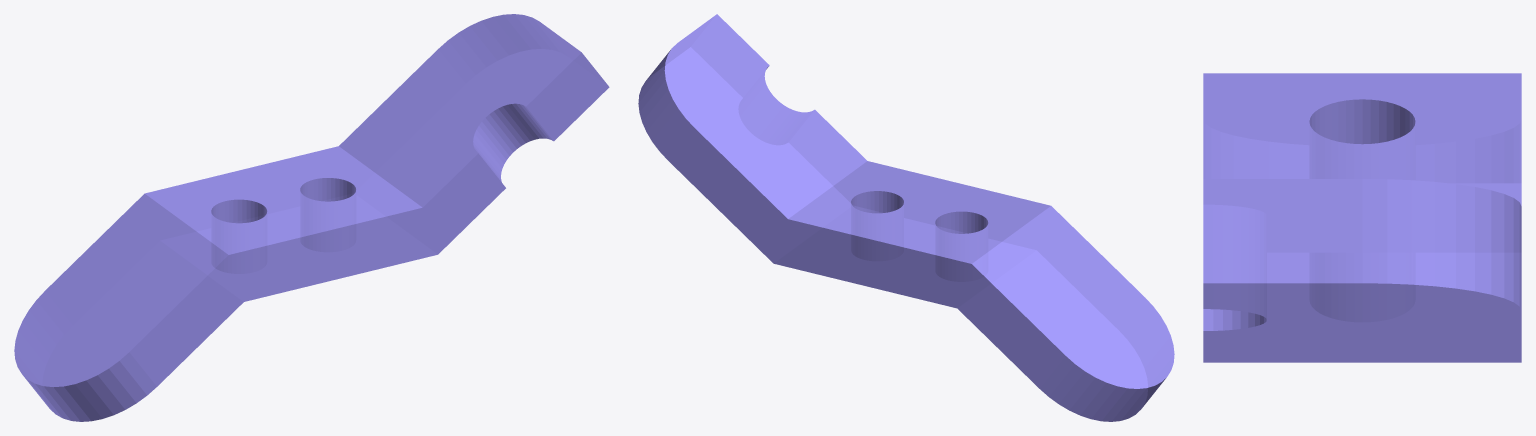
The model's file is SOLIDO-VISTA-AUXILIAR.dae.
3 views of the same model, side by side, from view 1: azimuth 30°, elevation 25°; view 2: azimuth 150°, elevation 25°; view 3: azimuth 270°, elevation 25° (orthographic). The views are drawn at different scales.
Visible parts, largest first — view 1: Group_4 (×3); view 2: Group_4 (×3); view 3: Group_4 (×2).
Boxes of the visible parts, bbox=[...] form: Group_4 (×3): bbox=[14, 14, 609, 421]; Group_4 (×3): bbox=[638, 14, 1174, 421]; Group_4 (×2): bbox=[1203, 73, 1521, 362].
Size of the model in its own units: 43.81 by 11.81 by 21.29.
